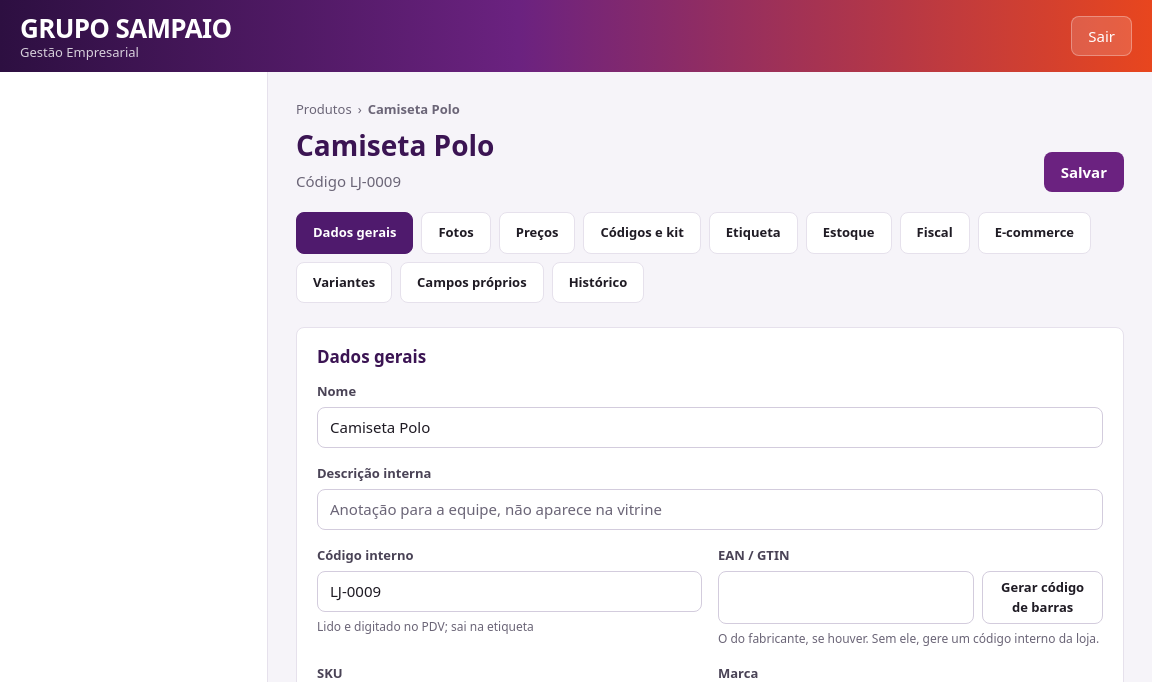
Test: preço abaixo do piso pede confirmação (A-produto-17) › piso que não é número é recusado ANTES de gravar, dizendo o campo
Expected: the field showing "Camiseta Polo" is shown, [317,407,1103,448]
Click the tab "Preços".
click(537, 233)  # box [499,212,576,254]
(page scrolled)
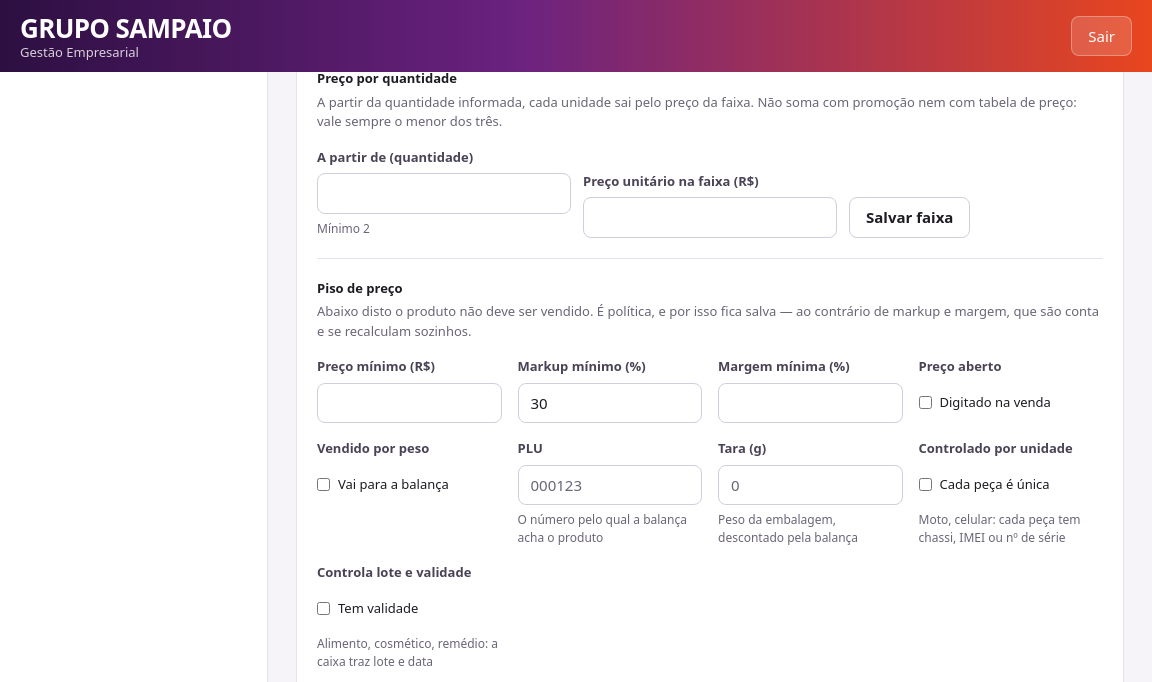
Replace the text in the field labelled "Markup mínimo (%)" with "trinta" at (610, 403), box [518,382,702,423]
(page scrolled)
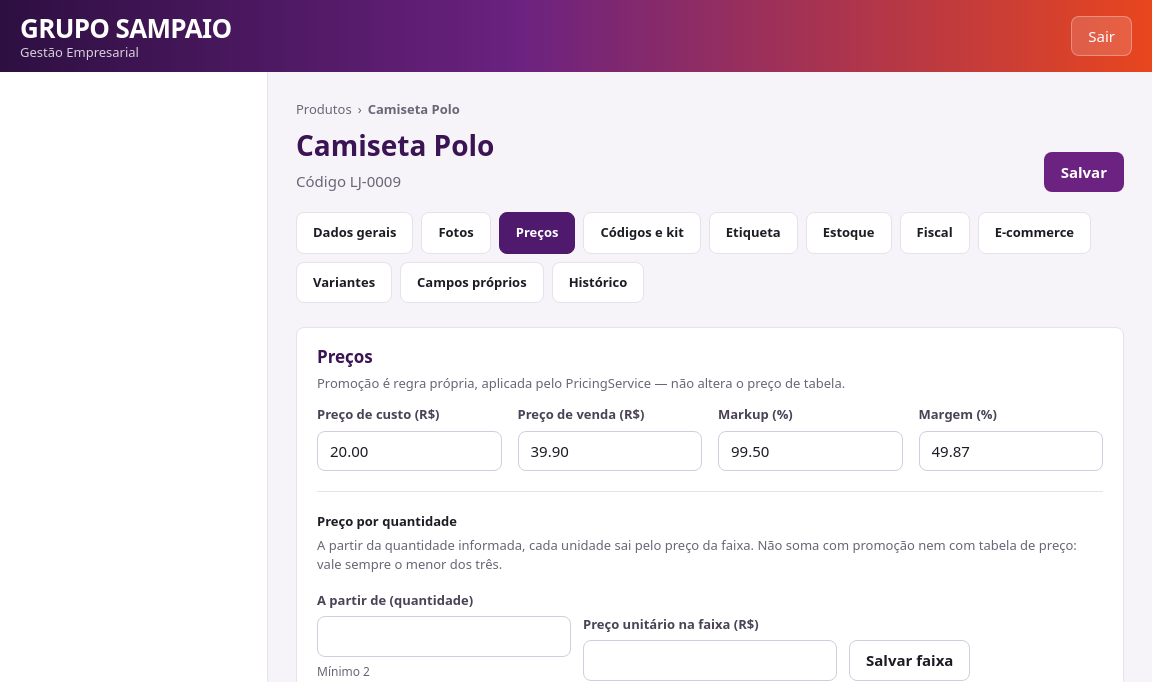
Click the button "Salvar".
click(1084, 172)  # box [1044,152,1124,192]
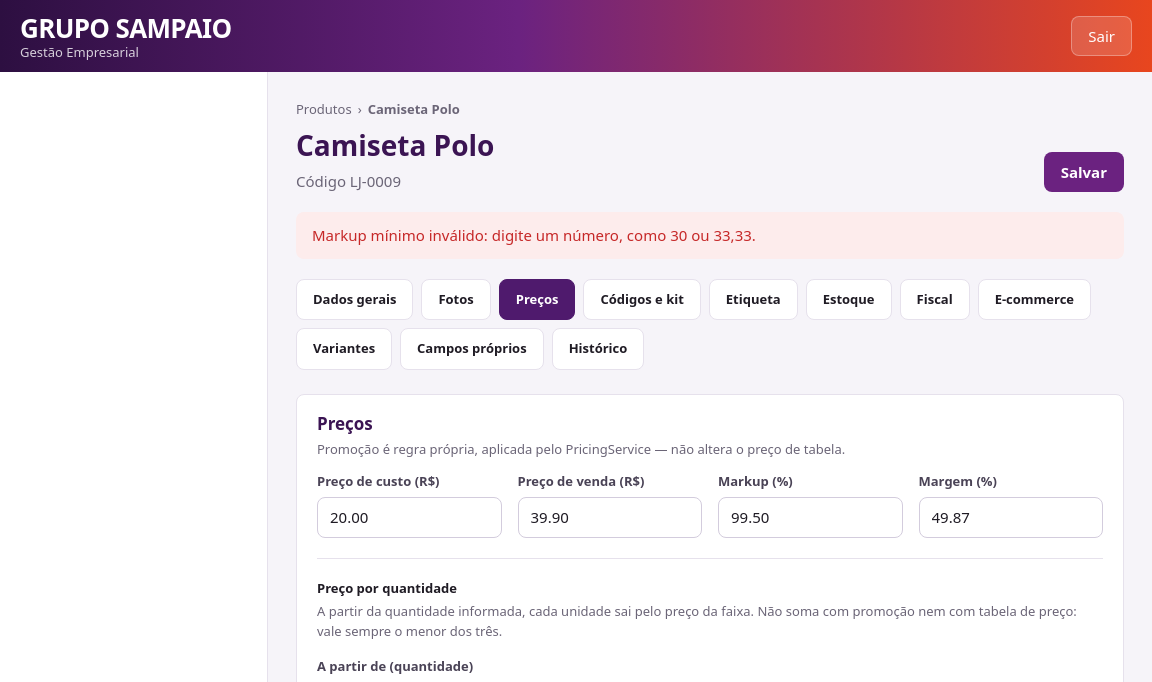
Now the text "Markup mínimo inválido: digite um número, como 30 ou 33,33." is shown, box [296,212,1124,258]
